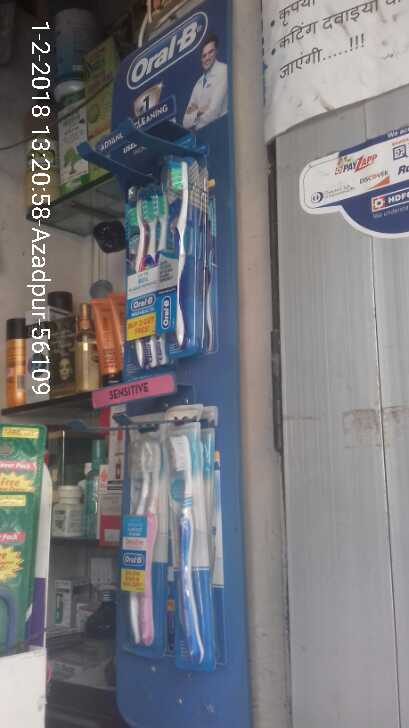oralb: (109, 420, 159, 647), (165, 430, 212, 670), (119, 188, 164, 372), (164, 159, 207, 346)
